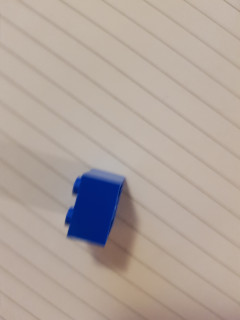2x2 blue: (62, 166, 127, 250)
